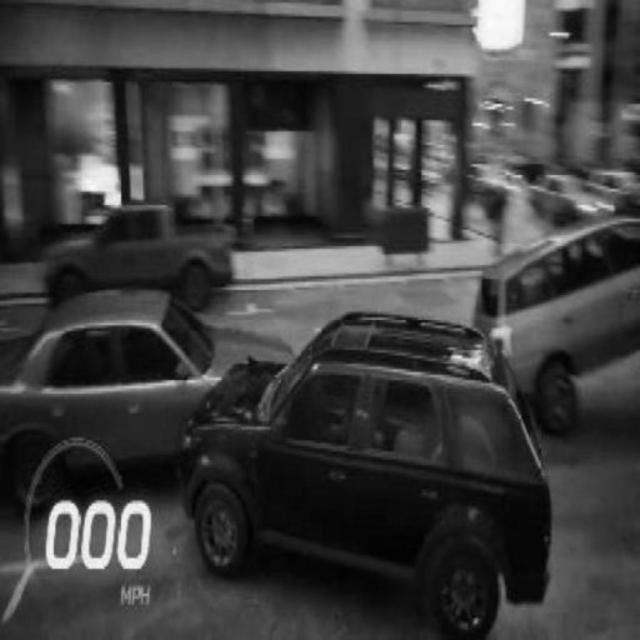accident: (0, 289, 554, 632)
vehicle: (476, 218, 640, 435), (33, 203, 238, 307), (527, 170, 625, 227)
